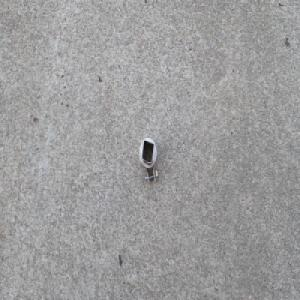MetalPart: (137, 135, 159, 186)
